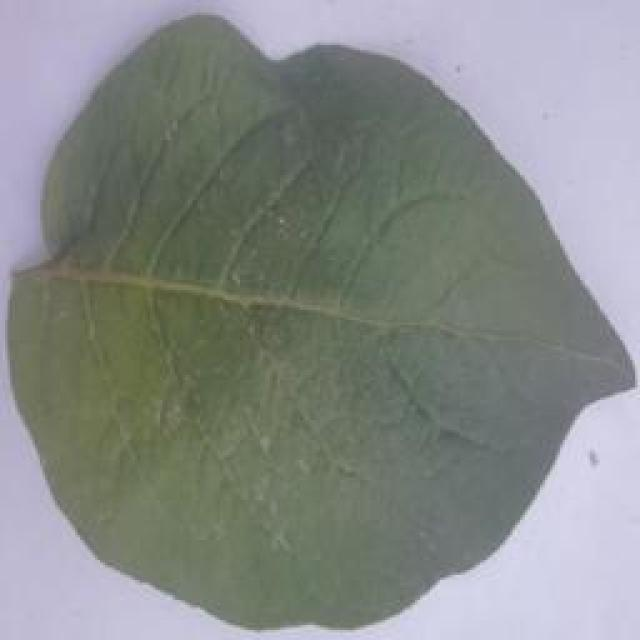Potato_Healthy: (11, 12, 628, 629)
